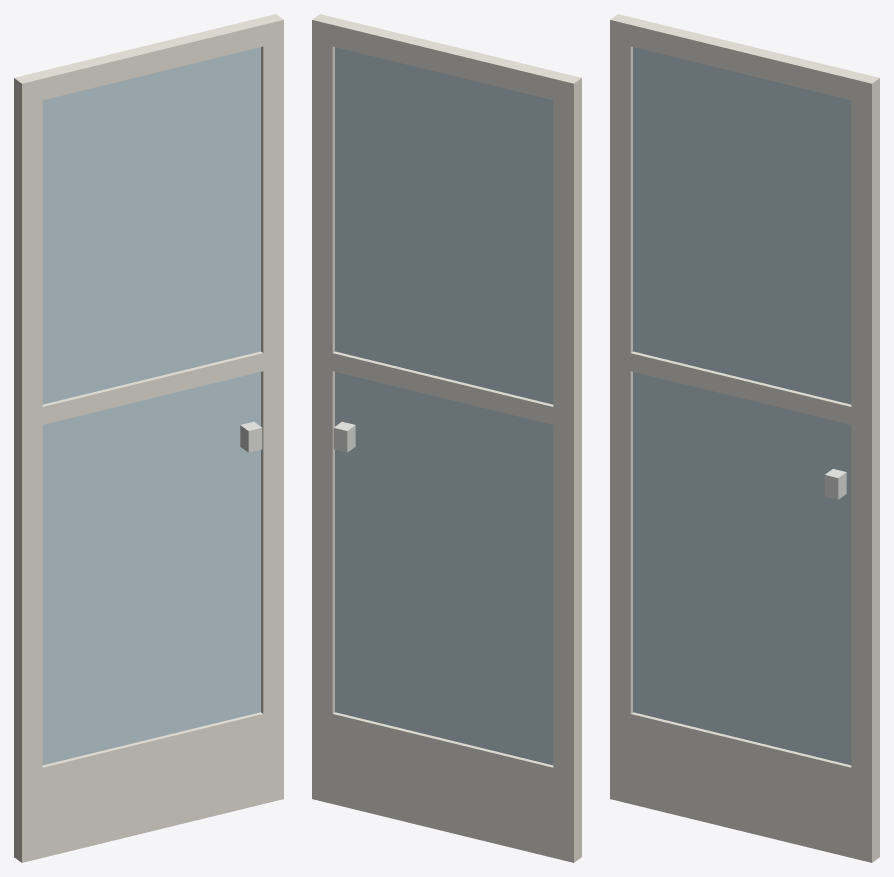
The model's file is door_leaf_balcony.glb.
The picture shows the model from 3 angles, left to right: view 1: azimuth 30°, elevation 25°; view 2: azimuth 150°, elevation 25°; view 3: azimuth 330°, elevation 25°; orthographic projection.
Parts seen in each view (by area): view 1: door_leaf_balcony_glass, door_leaf_balcony_frame, door_leaf_balcony_metal; view 2: door_leaf_balcony_glass, door_leaf_balcony_frame, door_leaf_balcony_metal; view 3: door_leaf_balcony_glass, door_leaf_balcony_frame, door_leaf_balcony_metal.
Boxes of the visible parts, x1,y1,x2,y2 form: door_leaf_balcony_glass: (42, 47, 260, 765); door_leaf_balcony_frame: (14, 14, 283, 862); door_leaf_balcony_metal: (240, 421, 262, 452); door_leaf_balcony_glass: (335, 47, 553, 765); door_leaf_balcony_frame: (312, 14, 581, 862); door_leaf_balcony_metal: (333, 421, 355, 452); door_leaf_balcony_glass: (633, 47, 851, 765); door_leaf_balcony_frame: (610, 14, 879, 862); door_leaf_balcony_metal: (824, 469, 846, 499).
Bounding box in the file's own units: 0.76 × 2.16 × 0.1.
